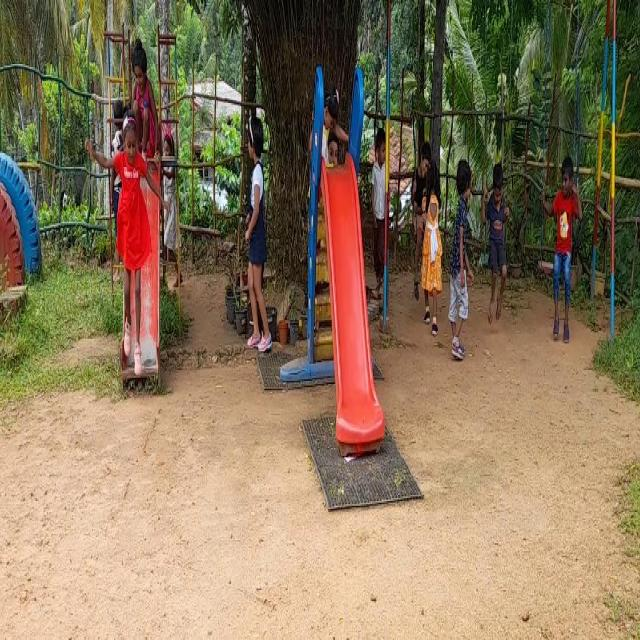child: (106, 105, 154, 370), (234, 113, 274, 379), (548, 132, 580, 343), (446, 150, 475, 364), (483, 126, 512, 322), (406, 129, 424, 286)
